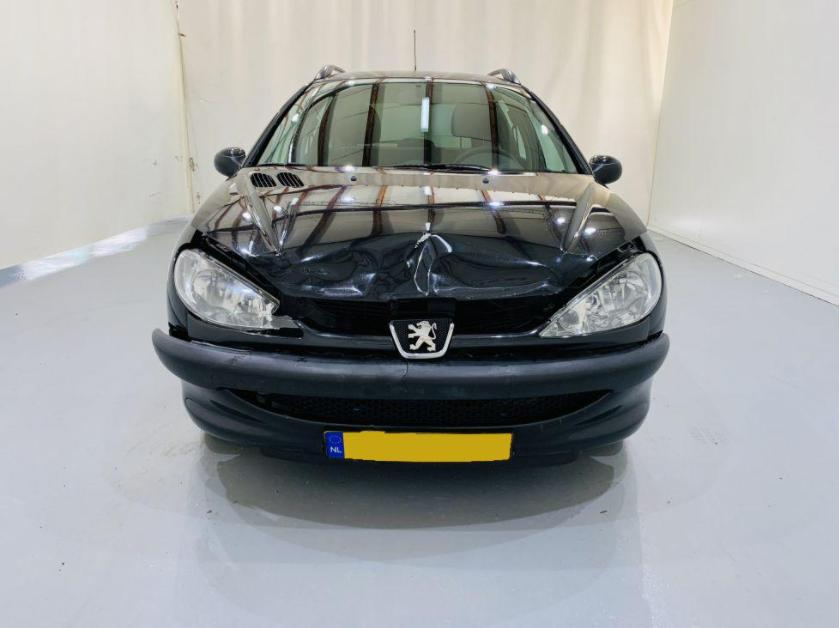Fender: (166, 214, 195, 343), (639, 230, 667, 338)
Front-bumper: (153, 310, 669, 462)
Headlight: (173, 246, 300, 332), (537, 253, 662, 338)
Hood: (192, 166, 647, 303)
License-plate: (323, 430, 515, 462)
Mirror: (588, 154, 623, 188), (214, 145, 246, 177)
Roof: (313, 64, 521, 85)
Windshield: (251, 78, 587, 174)
